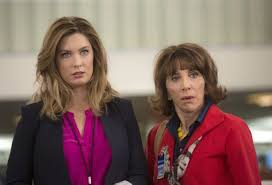Bad: (8, 15, 260, 184)
